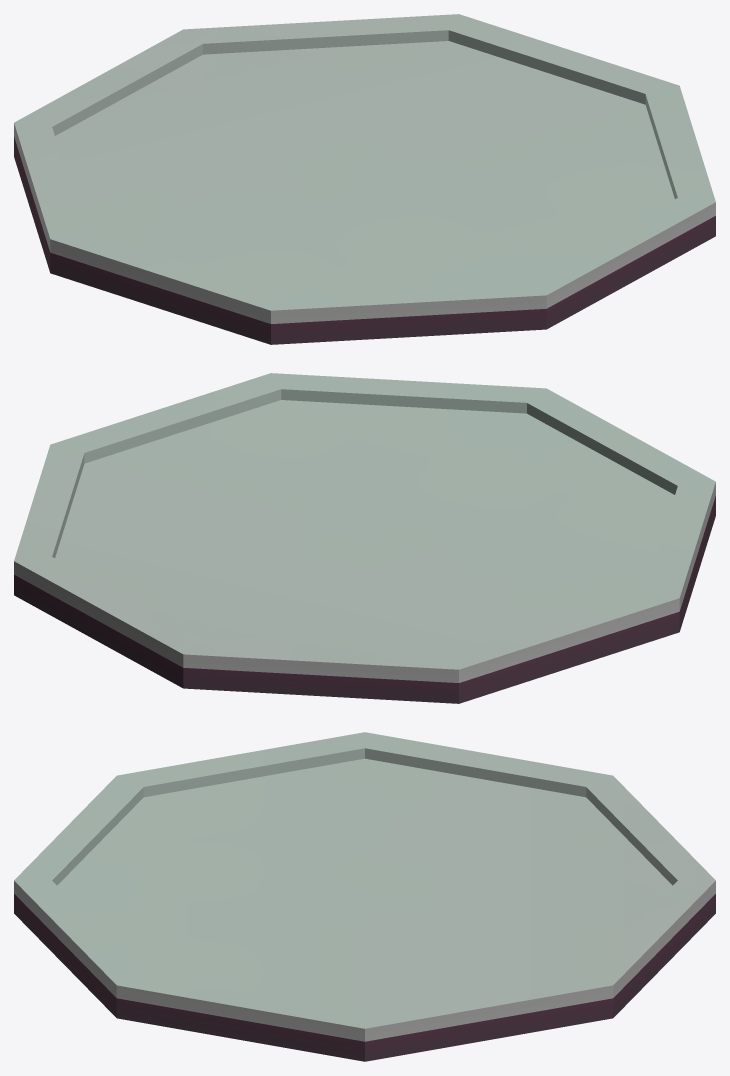
File: Kitchen_Plate_Small.fbx
3 views of the same model, one above another, from view 1: azimuth 30°, elevation 25°; view 2: azimuth 150°, elevation 25°; view 3: azimuth 270°, elevation 25° (orthographic). The views are drawn at different scales.
Visible parts, largest first — view 1: Plate_smol; view 2: Plate_smol; view 3: Plate_smol.
Part boxes in pixels (x1,y1,x2,y2): Plate_smol: [14, 14, 715, 344]; Plate_smol: [14, 373, 715, 703]; Plate_smol: [14, 732, 715, 1061].
Size of the model in its own units: 20.24 by 1.58 by 20.24.
